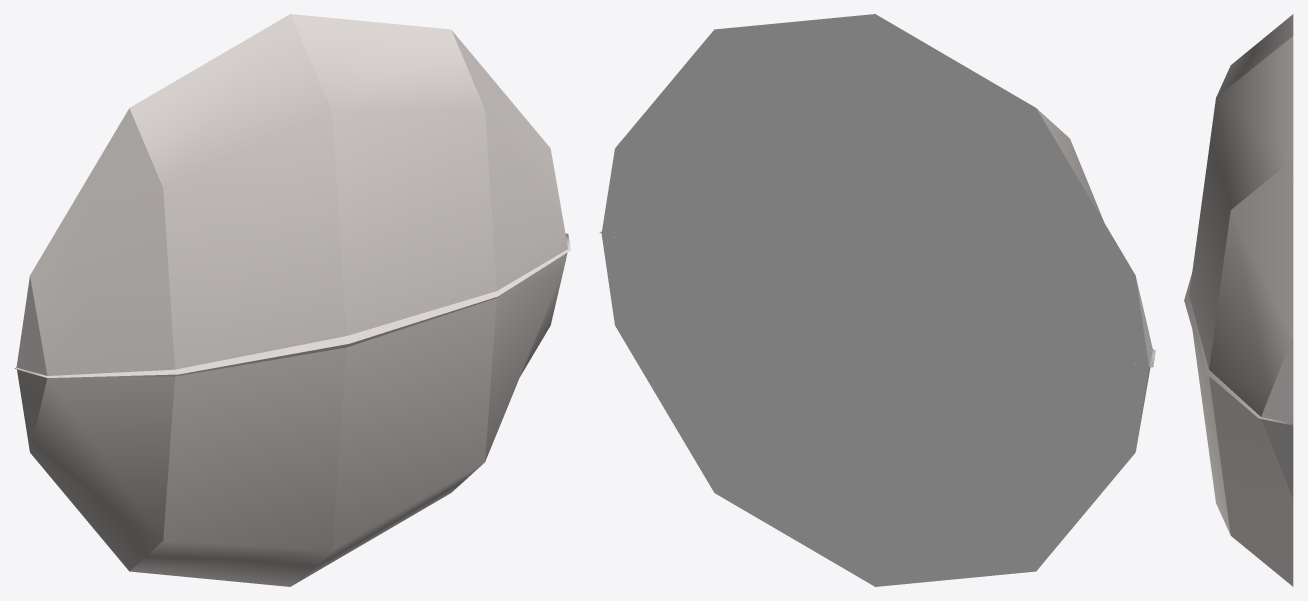
File: EyeCamera_2.fbx
The picture shows the model from 3 angles, left to right: view 1: azimuth 30°, elevation 25°; view 2: azimuth 150°, elevation 25°; view 3: azimuth 270°, elevation 25°; orthographic projection. The views are drawn at different scales.
Parts seen in each view (by area): view 1: eyelids; view 2: white, eyelids; view 3: eyelids.
Boxes of the visible parts, left/top/right/bottom form: eyelids: left=14, top=14, right=570, bottom=586; white: left=601, top=14, right=1148, bottom=586; eyelids: left=599, top=109, right=1155, bottom=447; eyelids: left=1184, top=14, right=1293, bottom=586.
Bounding box in the file's own units: 138 × 137 × 25.75.
